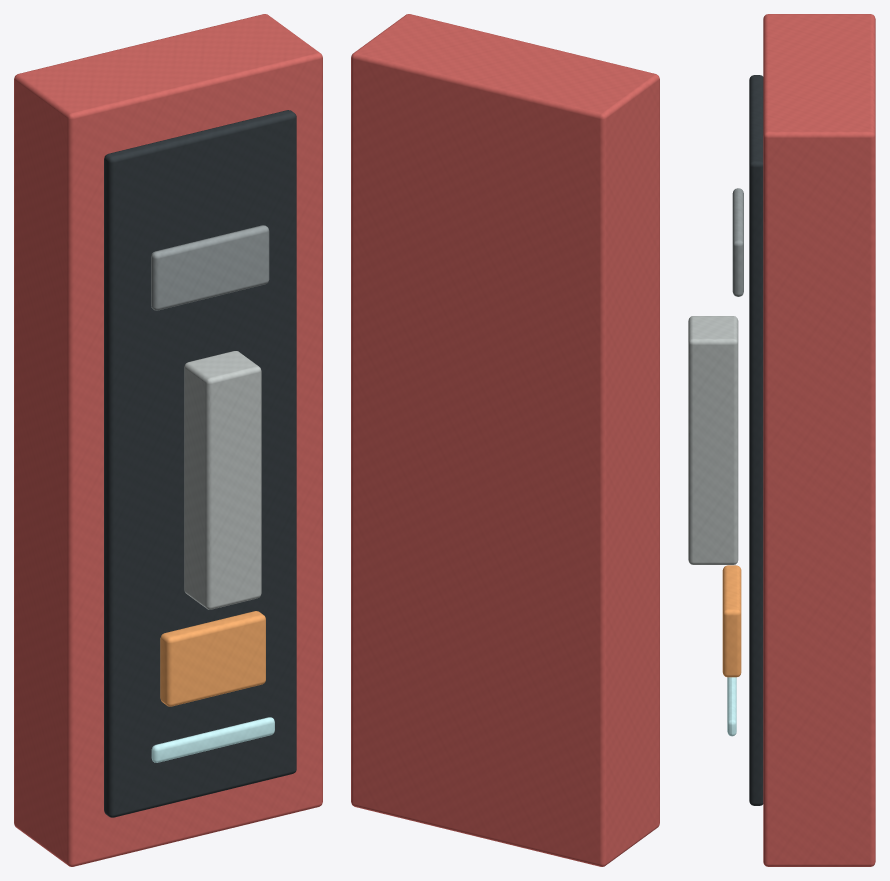
The model's file is EmergencyPhone.glb.
3 views of the same model, side by side, from view 1: azimuth 30°, elevation 25°; view 2: azimuth 150°, elevation 25°; view 3: azimuth 270°, elevation 25° (orthographic). The views are drawn at different scales.
Parts seen in each view (by area): view 1: EmergencyPhone_Mesh; view 2: EmergencyPhone_Mesh; view 3: EmergencyPhone_Mesh.
Boxes of the visible parts, <box> form: EmergencyPhone_Mesh: <box>14,14,322,866</box>; EmergencyPhone_Mesh: <box>351,14,659,866</box>; EmergencyPhone_Mesh: <box>688,14,875,866</box>.
Size of the model in its own units: 0.46 by 1.3 by 0.3.
Materials: 6 (6 with a texture image).
